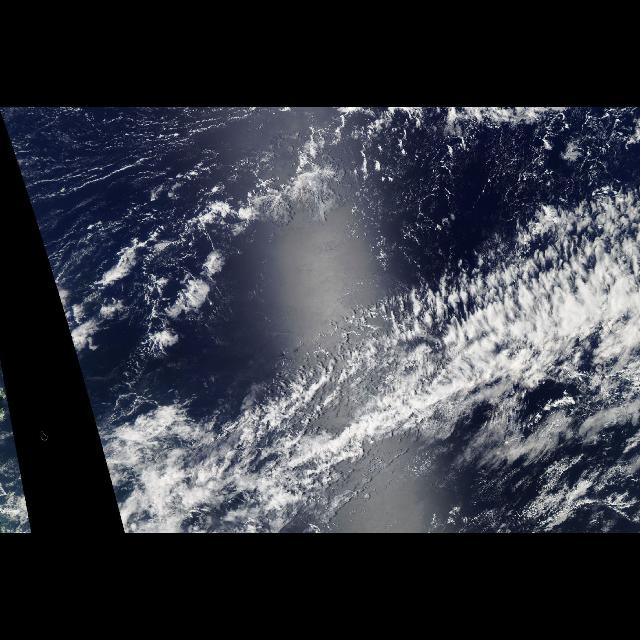Fish: (67, 154, 633, 511)
Sugar: (4, 109, 234, 198)
